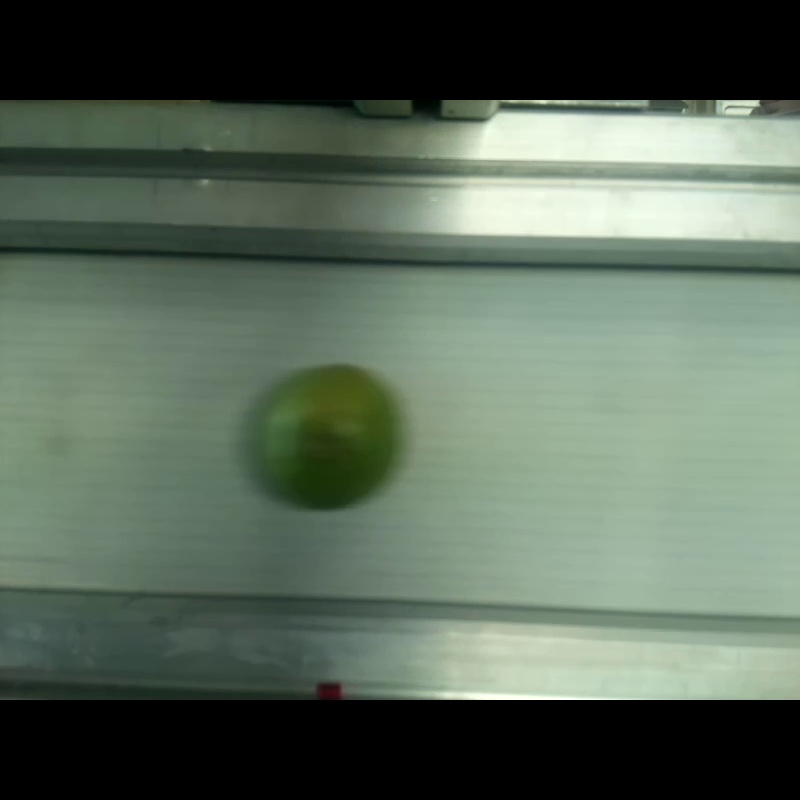lime: (257, 365, 397, 507)
